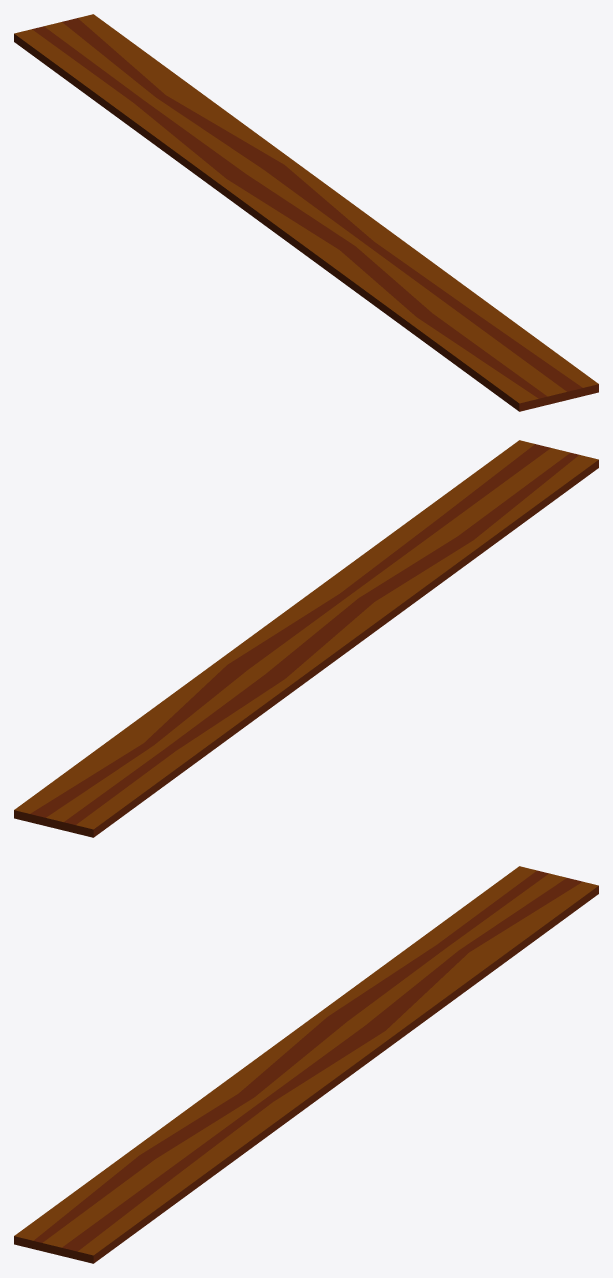
File: plankv1.fbx
3 views of the same model, one above another, from view 1: azimuth 30°, elevation 25°; view 2: azimuth 150°, elevation 25°; view 3: azimuth 330°, elevation 25° (orthographic).
Parts seen in each view (by area): view 1: wood plank; view 2: wood plank; view 3: wood plank.
Part boxes in pixels (x1,y1,x2,y2): wood plank: (14, 14, 598, 411); wood plank: (14, 440, 598, 837); wood plank: (14, 866, 598, 1263).
Bounding box in the file's own units: 1 × 0.1 × 11.
